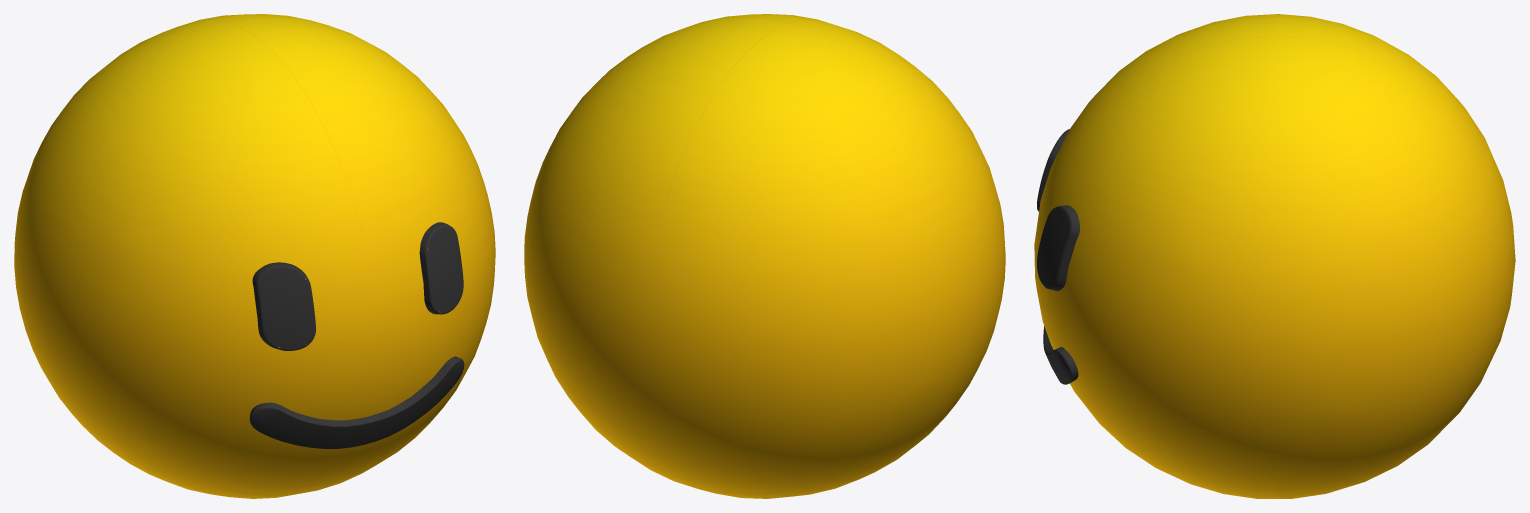
The model's file is SmilingFace.dae.
3 views of the same model, side by side, from view 1: azimuth 30°, elevation 25°; view 2: azimuth 150°, elevation 25°; view 3: azimuth 270°, elevation 25° (orthographic).
Parts seen in each view (by area): view 1: polySurface168; view 2: polySurface168; view 3: polySurface168.
Part boxes in pixels (x1,y1,x2,y2): polySurface168: (14, 14, 495, 498); polySurface168: (524, 14, 1005, 498); polySurface168: (1034, 14, 1515, 498).
Size of the model in its own units: 1.62 by 1.64 by 1.62.
1 material, 1 textured.
